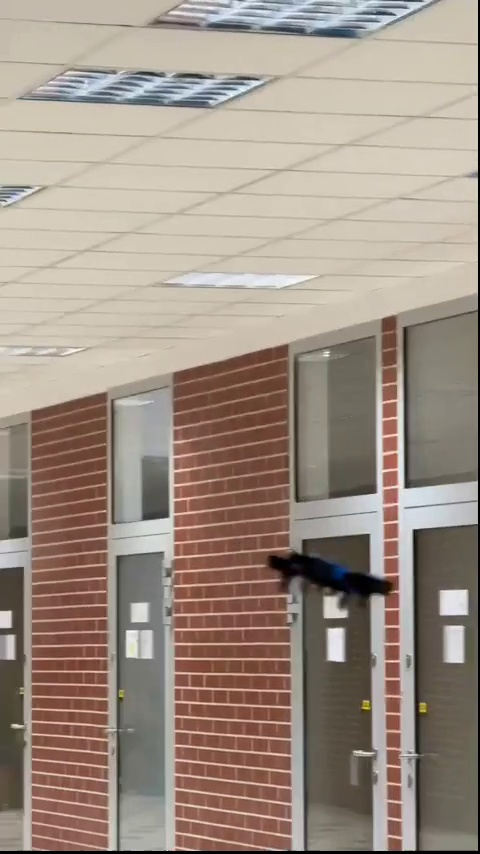drone: (268, 547, 393, 614)
